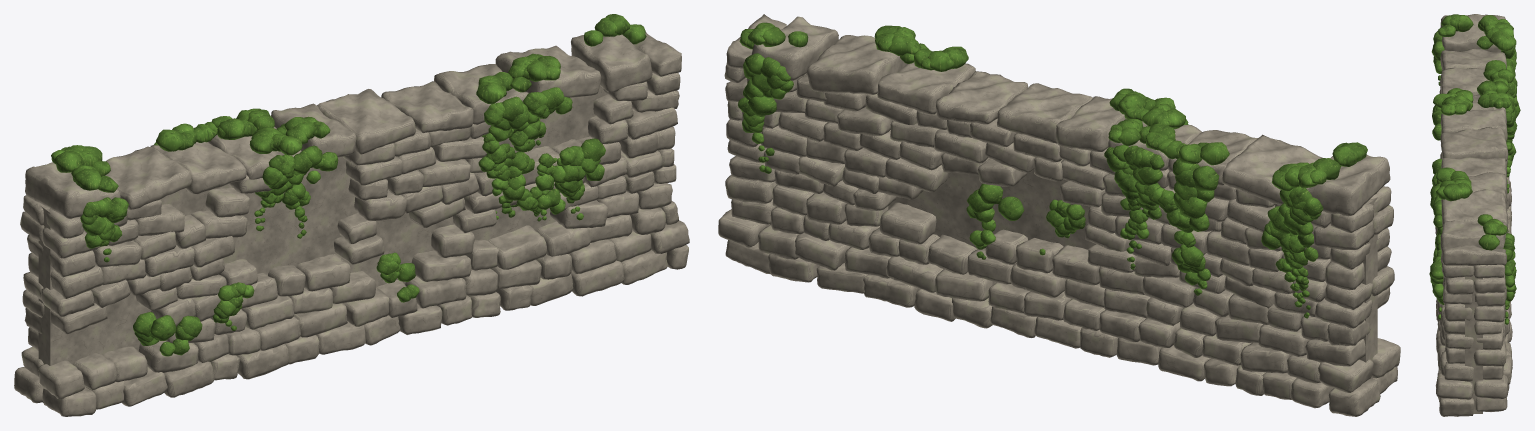
File: medieval_wall.obj
The picture shows the model from 3 angles, left to right: view 1: azimuth 30°, elevation 25°; view 2: azimuth 150°, elevation 25°; view 3: azimuth 270°, elevation 25°; orthographic projection. The views are drawn at different scales.
Visible parts, largest first — view 1: mortar_core, stone_273, stone_269, moss_15, stone_277, stone_274, moss_12, stone_268, stone_270, stone_276, moss_16, moss_14 (+110 smaller); view 2: mortar_core, moss_11, moss_19, stone_276, stone_269, moss_20, stone_273, stone_274, moss_17, stone_275, stone_268, moss_13 (+121 smaller); view 3: stone_273, stone_276, moss_19, stone_272, stone_278, stone_277, stone_269, stone_268, mortar_core, stone_270, stone_274, moss_12 (+38 smaller).
Boxes of the visible parts, x1,y1,x2,y2 form: mortar_core: (38,86,607,402); stone_273: (317,89,415,154); stone_269: (105,146,191,209); moss_15: (273,116,338,238); stone_277: (571,34,652,92); stone_274: (381,81,473,132); moss_12: (71,165,128,262); stone_268: (25,162,120,218); stone_270: (150,142,246,193); stone_276: (495,45,601,97); moss_16: (249,127,302,231); moss_14: (508,59,564,195); mortar_core: (770,73,1377,378); moss_11: (1157,140,1229,273); moss_19: (738,22,808,173); stone_276: (807,35,907,94); stone_269: (1222,134,1322,204); moss_20: (1283,158,1340,318); stone_273: (997,83,1092,143); stone_274: (936,71,1028,124); moss_17: (1108,118,1174,269); stone_275: (877,62,975,114); stone_268: (1306,155,1390,216); moss_13: (1104,120,1175,222); stone_273: (1440,127,1508,160); stone_276: (1441,189,1508,230); moss_19: (1477,214,1516,324); stone_272: (1440,109,1507,140); stone_278: (1441,245,1506,265); stone_277: (1440,220,1507,250); stone_269: (1440,48,1506,70); stone_268: (1440,14,1505,52); mortar_core: (1465,266,1482,413); stone_270: (1440,68,1489,95); stone_274: (1441,157,1506,176); moss_12: (1431,14,1473,85).
Bounding box in the file's own units: 10.82 × 3.96 × 1.76.
Materials: 3 (3 with a texture image).
